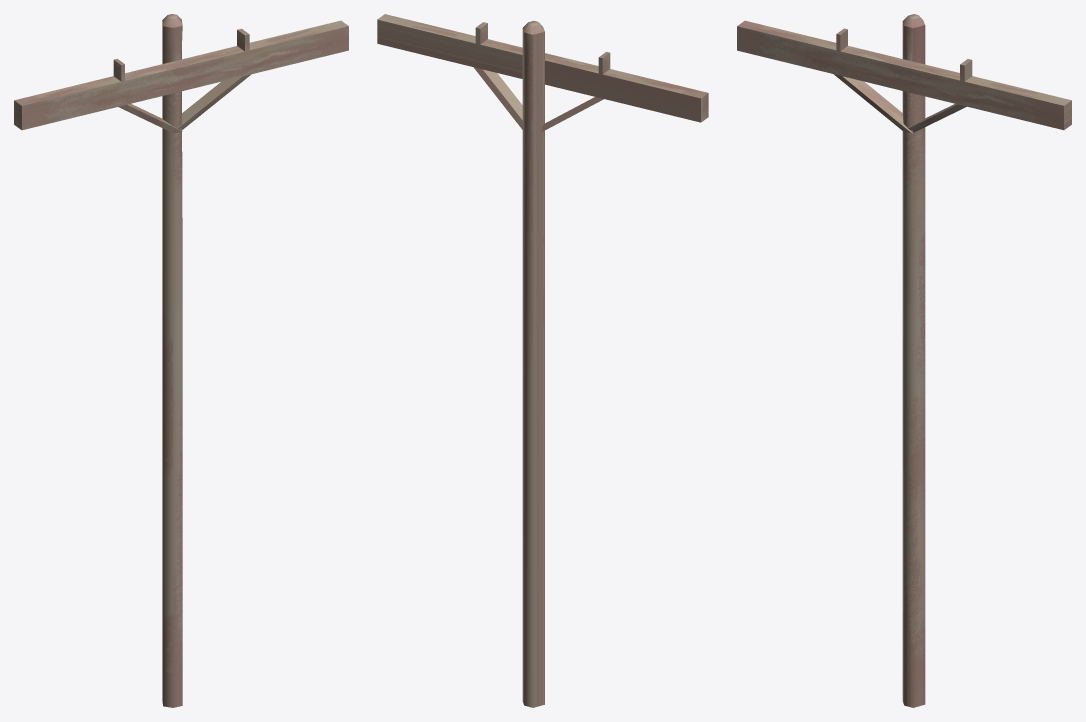
Rendered from electric.FBX.
3 views of the same model, side by side, from view 1: azimuth 30°, elevation 25°; view 2: azimuth 150°, elevation 25°; view 3: azimuth 330°, elevation 25° (orthographic).
Visible parts, largest first — view 1: Cylinder003; view 2: Cylinder003; view 3: Cylinder003.
Part boxes in pixels (x1=…): Cylinder003: x1=14, y1=14, x2=348, y2=707; Cylinder003: x1=377, y1=14, x2=708, y2=707; Cylinder003: x1=737, y1=14, x2=1071, y2=707.
Size of the model in its own units: 77.8 by 156 by 7.6.
